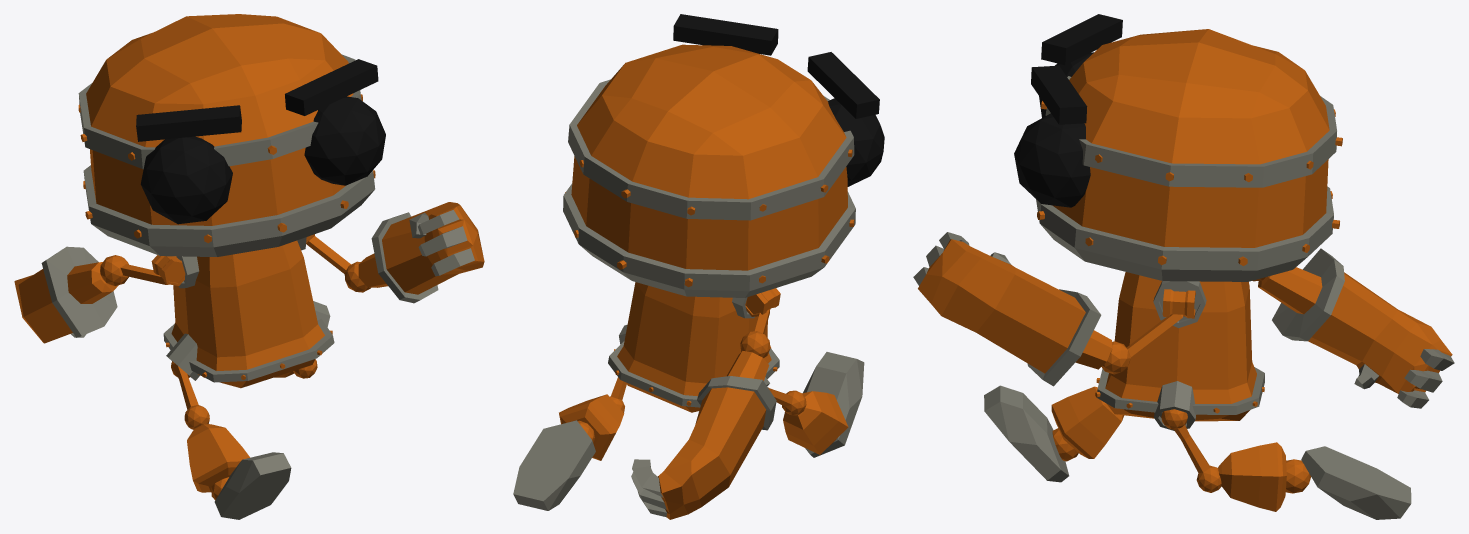
The model's file is Robot_000012.obj.
The picture shows the model from 3 angles, left to right: view 1: azimuth 30°, elevation 25°; view 2: azimuth 150°, elevation 25°; view 3: azimuth 270°, elevation 25°; orthographic projection. The views are drawn at different scales.
Parts seen in each view (by area): view 1: Head_Cylinder, Torso_Cube.001, Hand.L_Cylinder.022, Hand.R_Cylinder.015, Foot.R_Cylinder.017, LowerLeg.R_Cylinder.018, Arm.R_Cylinder.013, Arm.L_Cylinder.010, Leg.R_Cylinder.019, Shoulder.R_Cylinder.009; view 2: Head_Cylinder, Torso_Cube.001, Hand.R_Cylinder.015, Foot.L_Cylinder.014, Foot.R_Cylinder.017, LowerLeg.R_Cylinder.018, LowerLeg.L_Cylinder.012, Arm.R_Cylinder.013, Shoulder.R_Cylinder.009, Leg.R_Cylinder.019; view 3: Head_Cylinder, Torso_Cube.001, Hand.L_Cylinder.022, Hand.R_Cylinder.015, Foot.L_Cylinder.014, LowerLeg.L_Cylinder.012, Foot.R_Cylinder.017, LowerLeg.R_Cylinder.018, Arm.L_Cylinder.010, Leg.L_Cylinder.011, Shoulder.L_Cylinder.008.
Part boxes in pixels (bbox=[...]): Head_Cylinder: bbox=[78, 14, 385, 256]; Torso_Cube.001: bbox=[163, 237, 334, 388]; Hand.L_Cylinder.022: bbox=[358, 202, 484, 303]; Hand.R_Cylinder.015: bbox=[14, 246, 118, 343]; Foot.R_Cylinder.017: bbox=[214, 452, 291, 519]; LowerLeg.R_Cylinder.018: bbox=[187, 424, 249, 500]; Arm.R_Cylinder.013: bbox=[100, 255, 168, 285]; Arm.L_Cylinder.010: bbox=[306, 236, 370, 292]; Leg.R_Cylinder.019: bbox=[173, 363, 209, 429]; Shoulder.R_Cylinder.009: bbox=[151, 255, 185, 285]; Head_Cylinder: bbox=[563, 14, 884, 297]; Torso_Cube.001: bbox=[608, 282, 779, 412]; Hand.R_Cylinder.015: bbox=[631, 351, 776, 519]; Foot.L_Cylinder.014: bbox=[513, 420, 595, 510]; Foot.R_Cylinder.017: bbox=[803, 352, 864, 457]; LowerLeg.R_Cylinder.018: bbox=[783, 391, 848, 454]; LowerLeg.L_Cylinder.012: bbox=[559, 394, 624, 460]; Arm.R_Cylinder.013: bbox=[740, 309, 770, 358]; Shoulder.R_Cylinder.009: bbox=[745, 288, 780, 316]; Leg.R_Cylinder.019: bbox=[768, 387, 806, 415]; Head_Cylinder: bbox=[1014, 14, 1342, 281]; Torso_Cube.001: bbox=[1095, 272, 1264, 430]; Hand.L_Cylinder.022: bbox=[913, 232, 1112, 386]; Hand.R_Cylinder.015: bbox=[1258, 248, 1454, 408]; Foot.L_Cylinder.014: bbox=[1301, 446, 1411, 519]; LowerLeg.L_Cylinder.012: bbox=[1218, 442, 1310, 511]; Foot.R_Cylinder.017: bbox=[984, 385, 1069, 482]; LowerLeg.R_Cylinder.018: bbox=[1051, 386, 1124, 461]; Arm.L_Cylinder.010: bbox=[1101, 314, 1183, 374]; Leg.L_Cylinder.011: bbox=[1174, 425, 1221, 492]; Shoulder.L_Cylinder.008: bbox=[1162, 289, 1195, 318].
Size of the model in its own units: 2.83 by 4.12 by 4.39.
